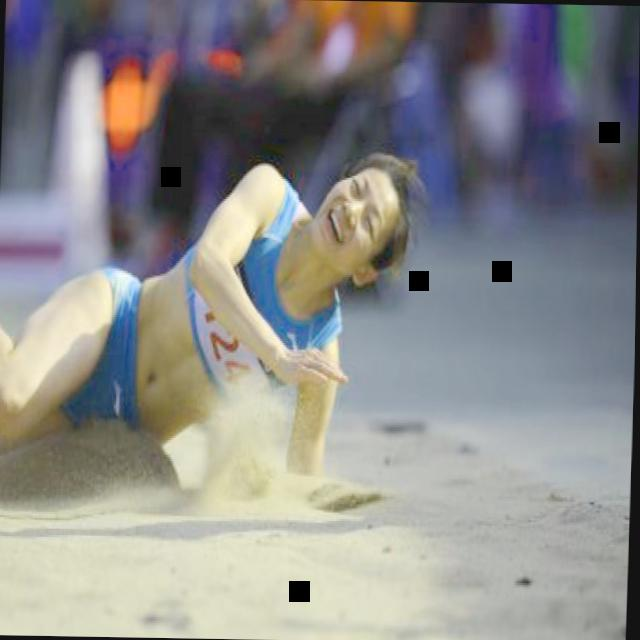Fall-Detected: (0, 131, 415, 511)
